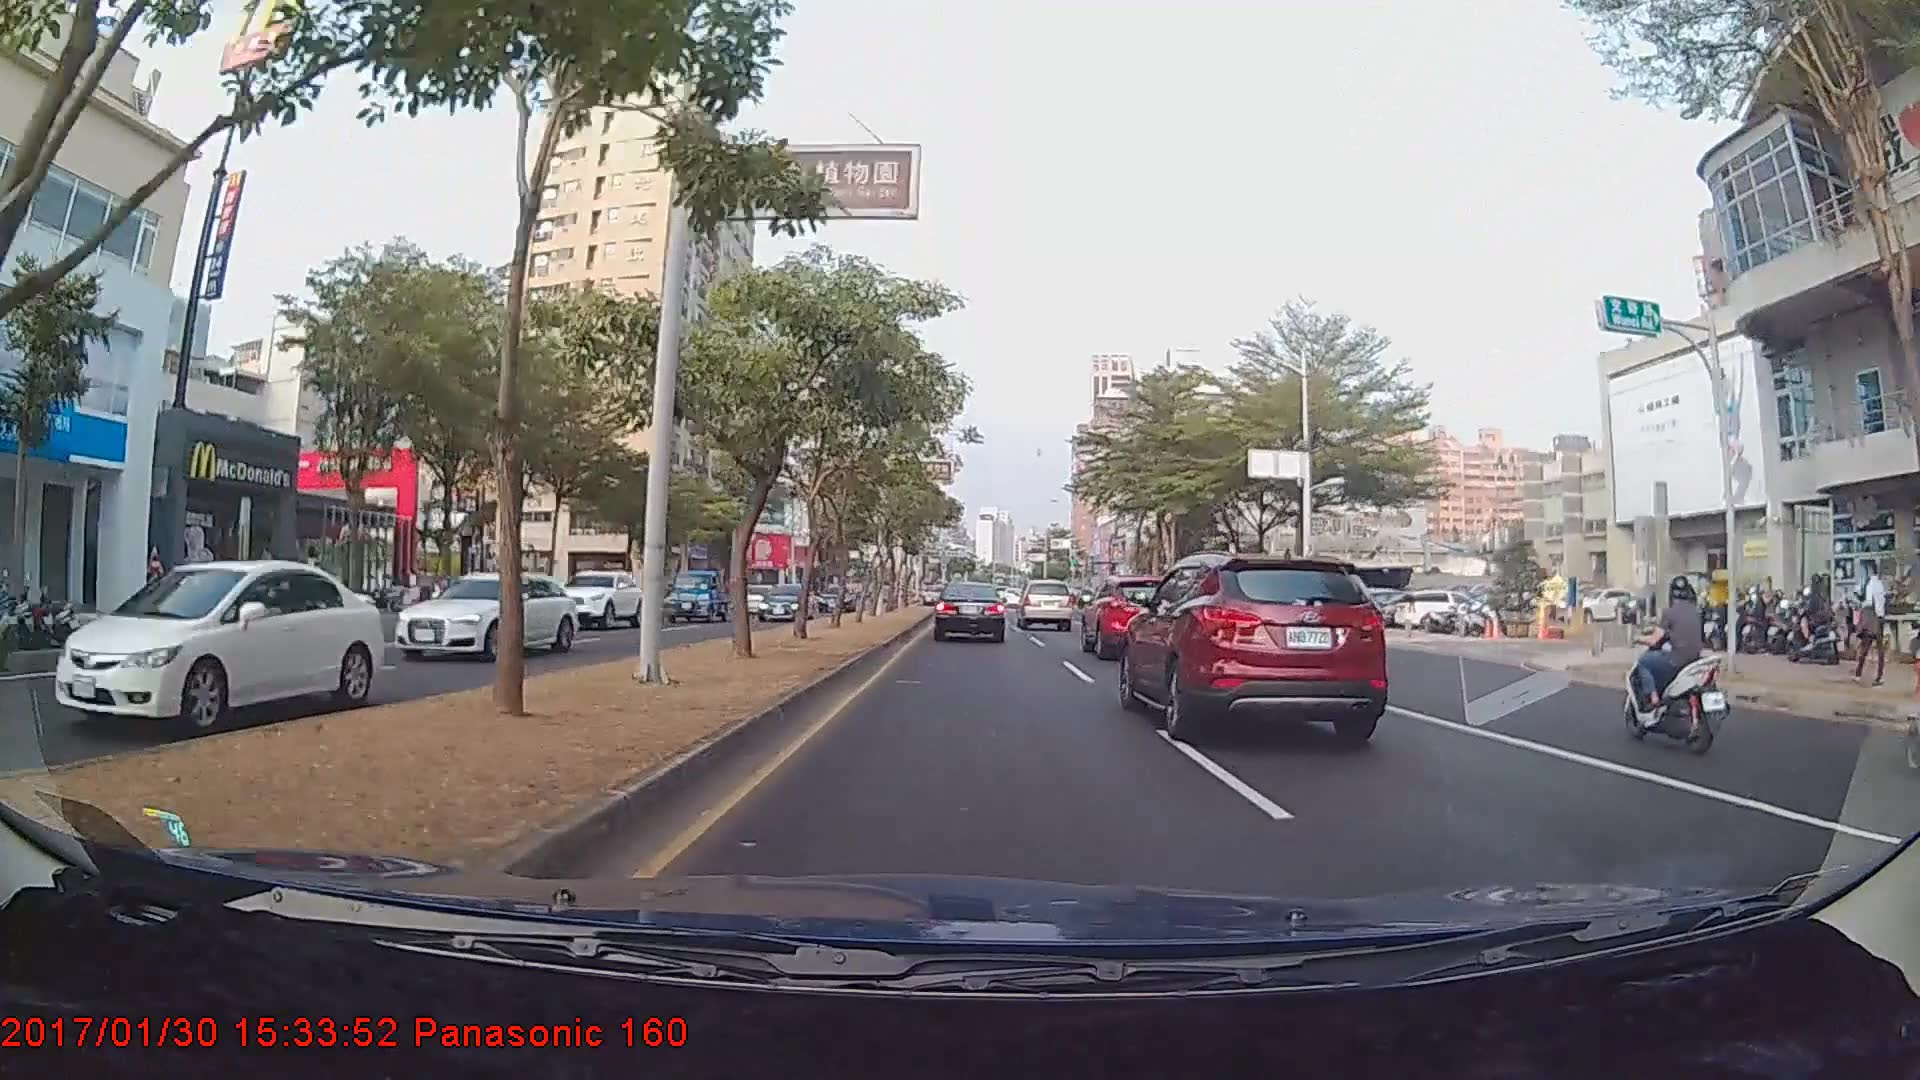pedestrian: (1856, 560, 1890, 680)
rider: (1608, 569, 1729, 754)
vehicle: (52, 559, 384, 733), (1126, 551, 1385, 736), (378, 573, 570, 662), (1080, 573, 1204, 659), (545, 569, 648, 628), (934, 579, 1006, 643), (668, 566, 731, 622), (1017, 579, 1073, 631), (757, 583, 812, 619), (815, 580, 857, 612)
